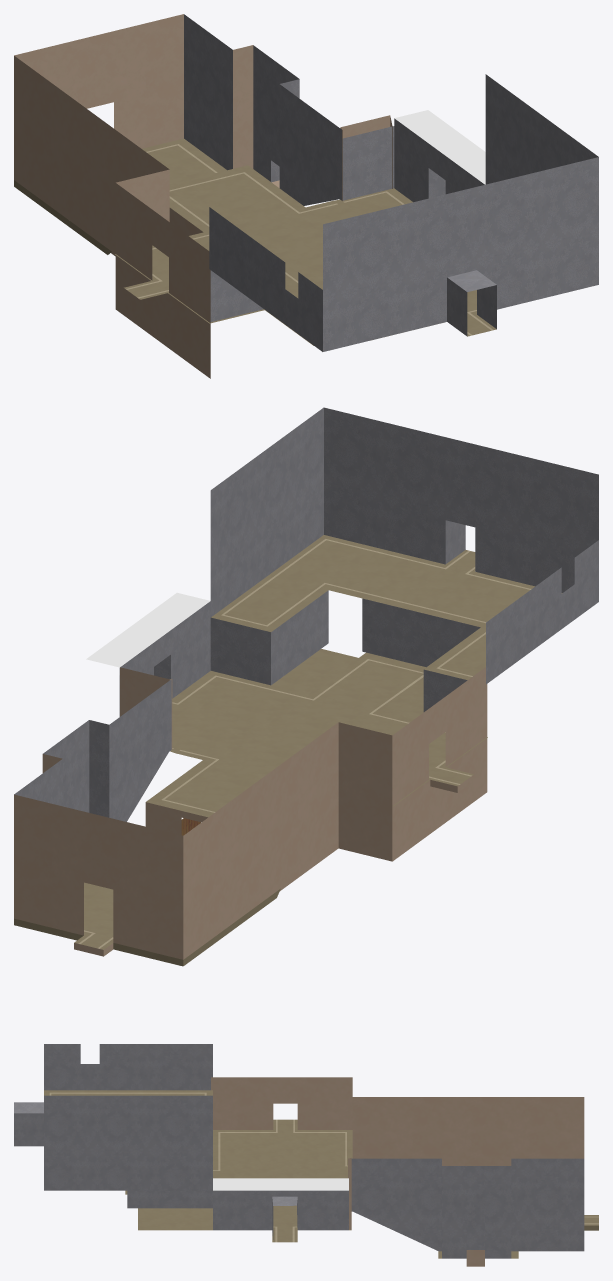
Rendered from MainFrame.fbx.
The picture shows the model from 3 angles, top to bottom: view 1: azimuth 30°, elevation 25°; view 2: azimuth 150°, elevation 25°; view 3: azimuth 270°, elevation 25°; orthographic projection. The views are drawn at different scales.
Parts seen in each view (by area): view 1: Main; view 2: Main; view 3: Main.
Part boxes in pixels (left/top/right/bottom): Main: left=14, top=14, right=598, bottom=378; Main: left=14, top=407, right=598, bottom=966; Main: left=14, top=1044, right=598, bottom=1266.
Size of the model in its own units: 7975 by 5425 by 16025.
